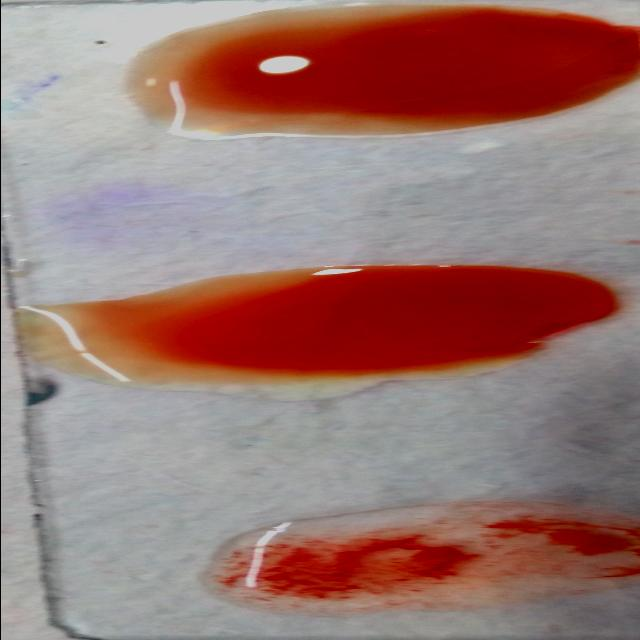D: (218, 508, 640, 598)
